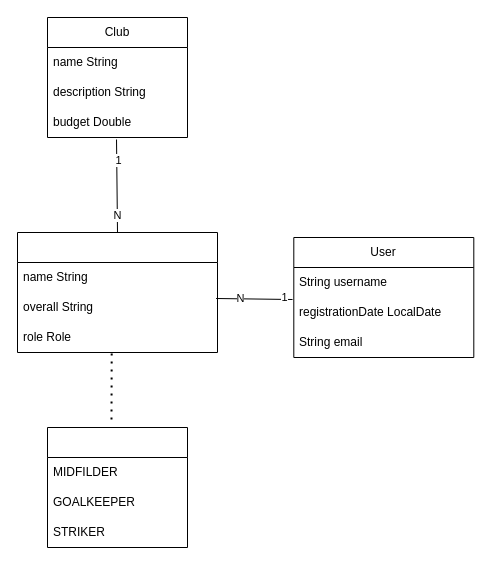
Image size: 492x565. Some labels were removed from this diagram. Here are the shapes that lost their labels. From the top down, the box of each, then its label:
(16, 232, 218, 352): Player
(46, 426, 188, 548): Role(enum)
